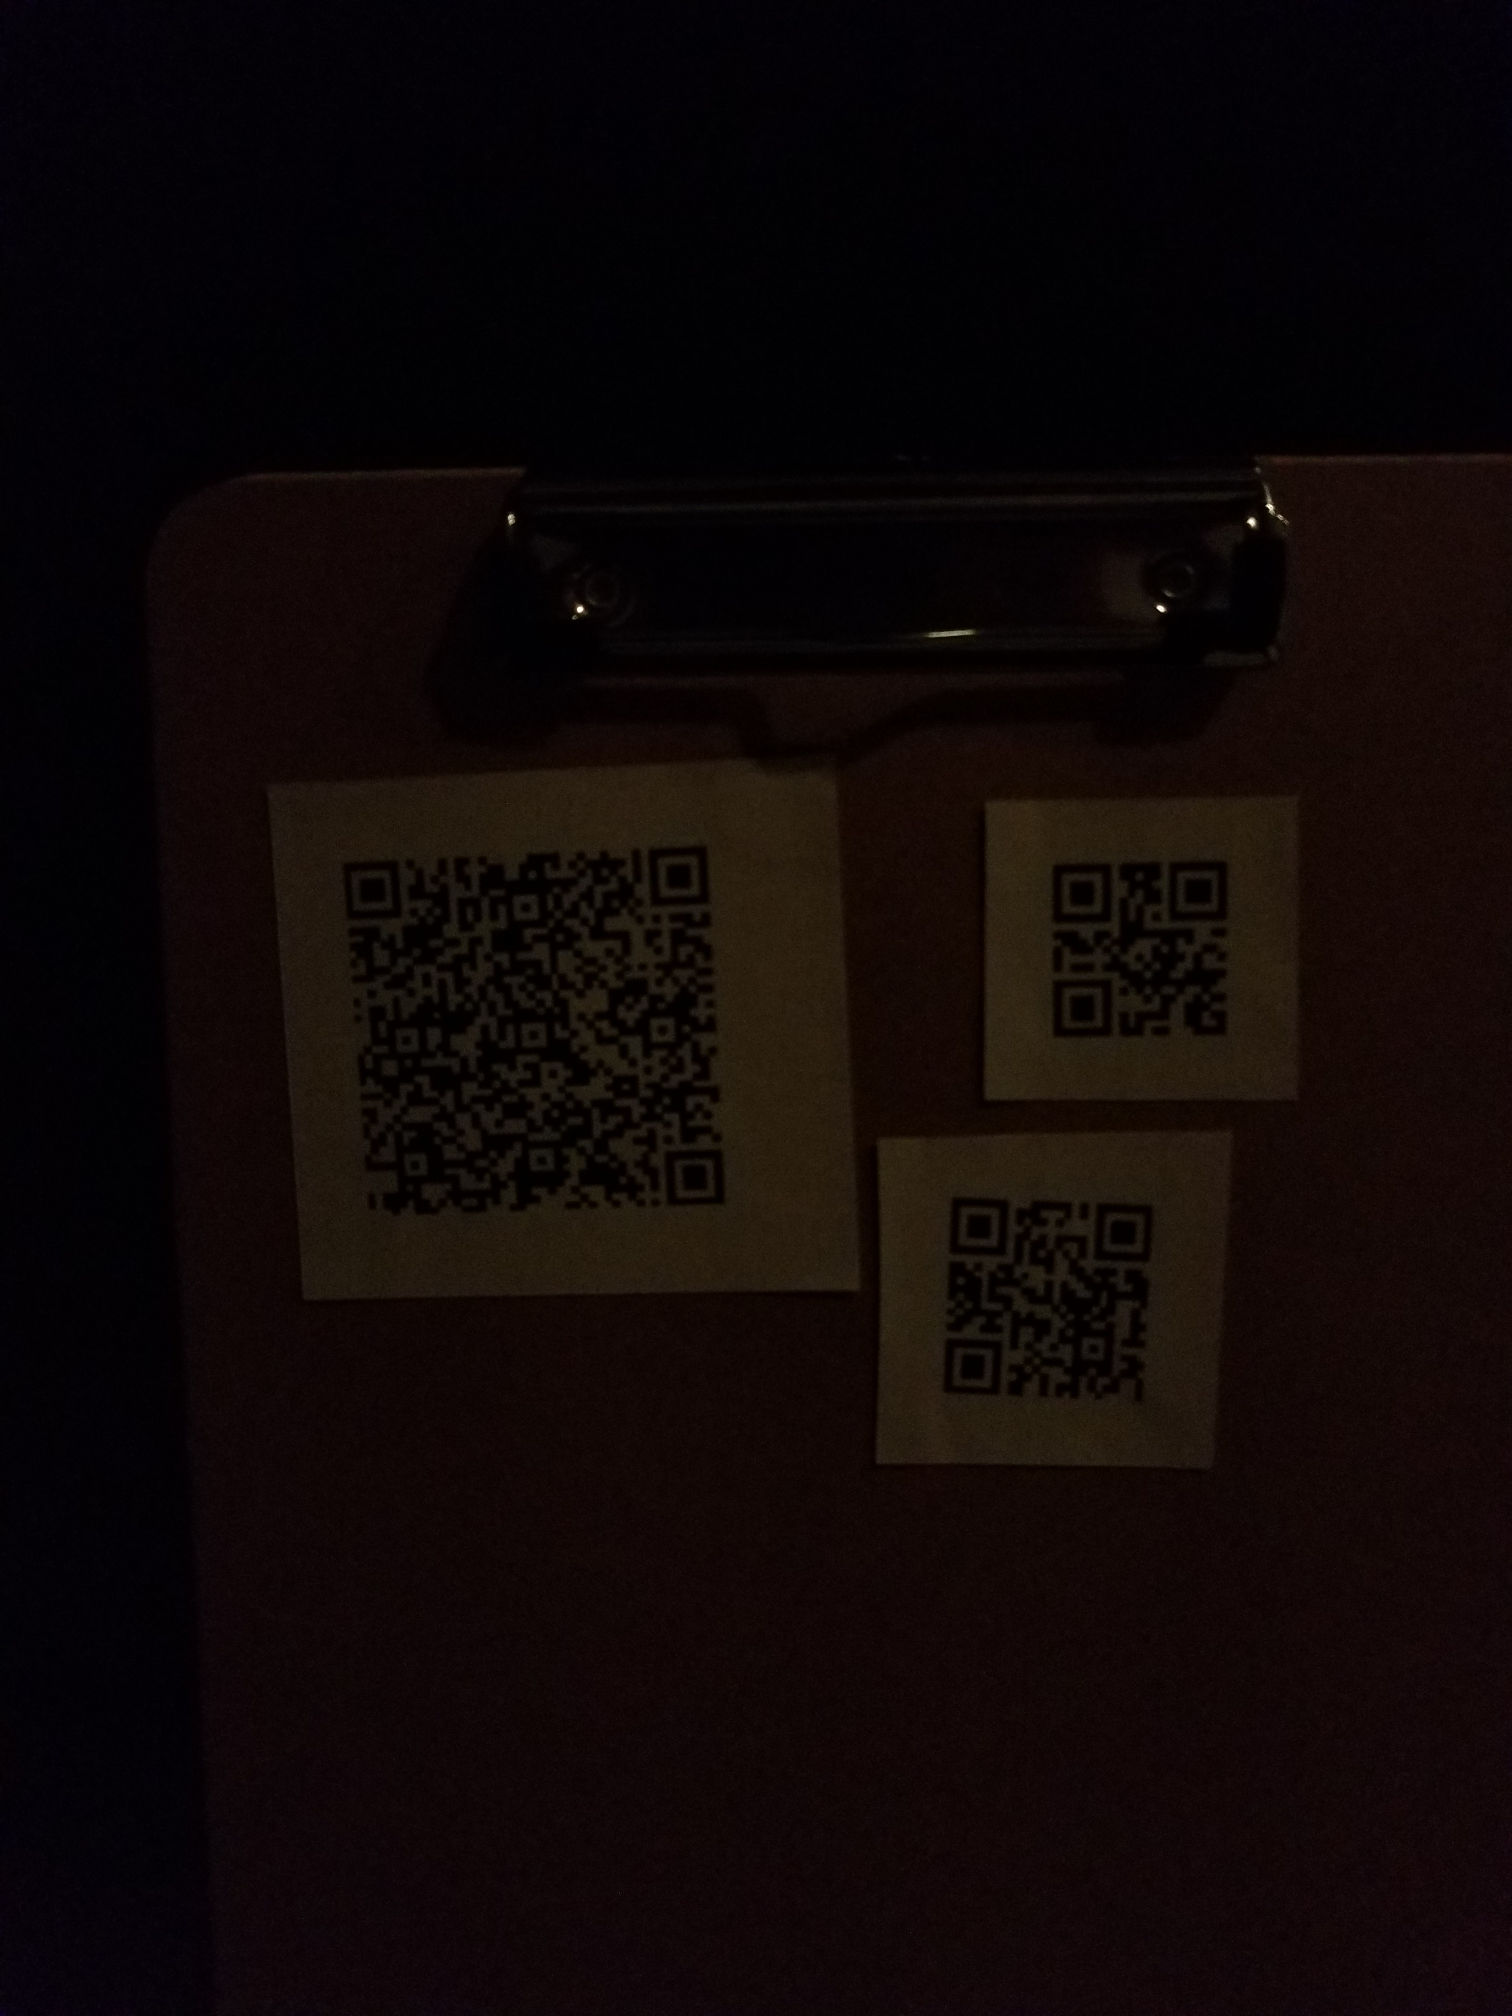QR_CODE: (311, 791, 751, 1249), (904, 1164, 1182, 1437), (1020, 818, 1255, 1075)
